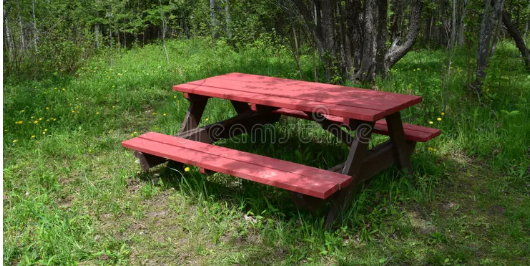obstacle: (118, 70, 446, 221)
